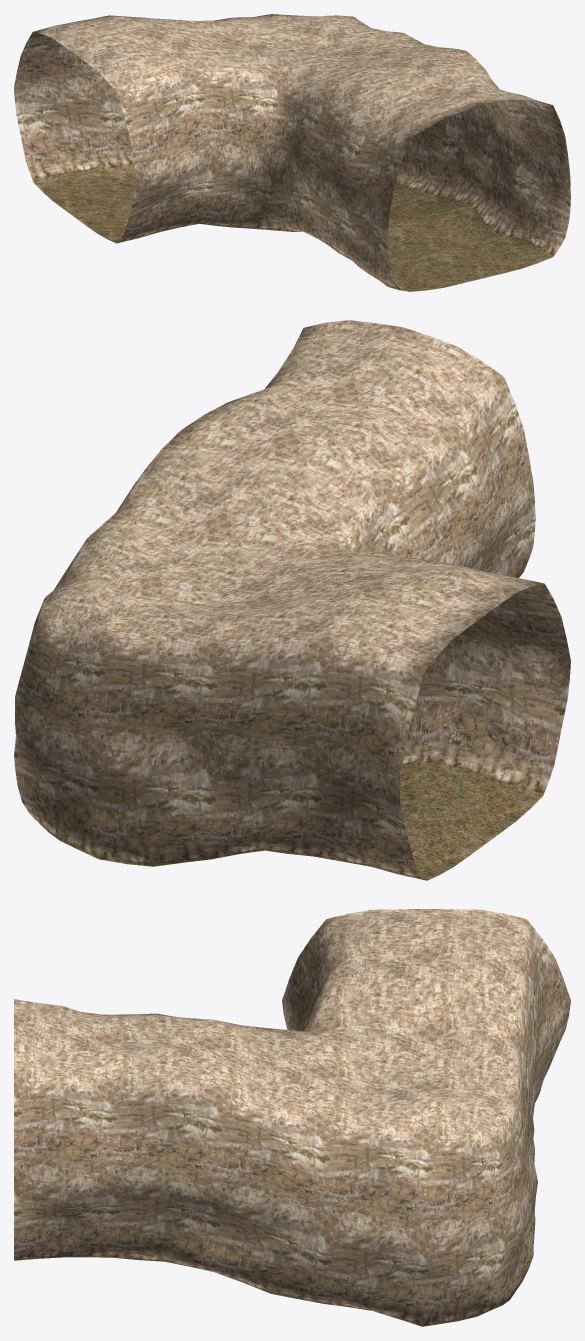
File: thm_all_cave_s03_r26_mesh_r26.fbx
The picture shows the model from 3 angles, top to bottom: view 1: azimuth 30°, elevation 25°; view 2: azimuth 150°, elevation 25°; view 3: azimuth 270°, elevation 25°; orthographic projection. The views are drawn at different scales.
Visible parts, largest first — view 1: mesh_node; view 2: mesh_node; view 3: mesh_node.
Boxes of the visible parts, x1,y1,x2,y2 form: mesh_node: (14, 14, 570, 291); mesh_node: (14, 320, 570, 880); mesh_node: (14, 909, 570, 1326).
Size of the model in its own units: 33.83 by 22.2 by 41.86.
